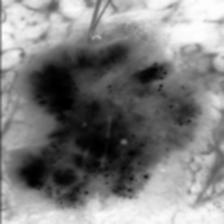Potentially Malignant Skin Tumors: (13, 42, 197, 210)
